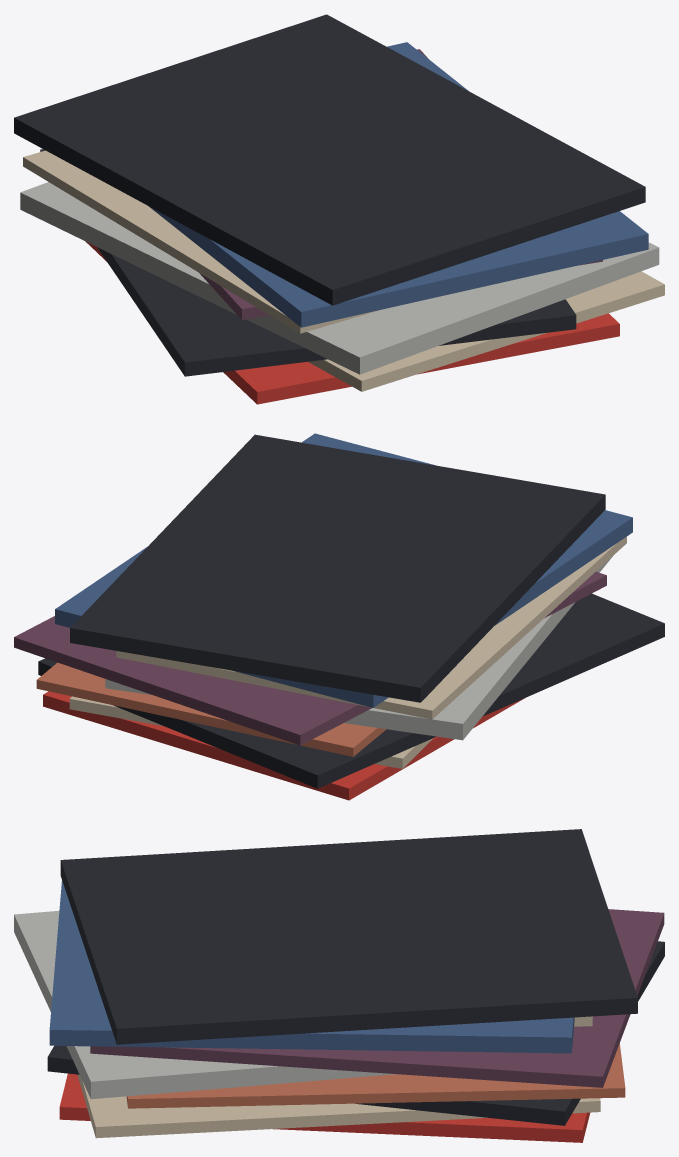
Rendered from FN_Stack_Magazine.glb.
3 renders of one model, top to bottom at view 1: azimuth 30°, elevation 25°; view 2: azimuth 150°, elevation 25°; view 3: azimuth 270°, elevation 25°, orthographic. The views are drawn at different scales.
Parts seen in each view (by area): view 1: FN_Stack_Magazine; view 2: FN_Stack_Magazine; view 3: FN_Stack_Magazine.
Boxes of the visible parts, left/top/right/bottom form: FN_Stack_Magazine: left=14, top=14, right=664, bottom=404; FN_Stack_Magazine: left=14, top=433, right=664, bottom=800; FN_Stack_Magazine: left=14, top=829, right=664, bottom=1142.
Size of the model in its own units: 0.307 by 0.074 by 0.3712.
Materials: 1 (1 with a texture image).
